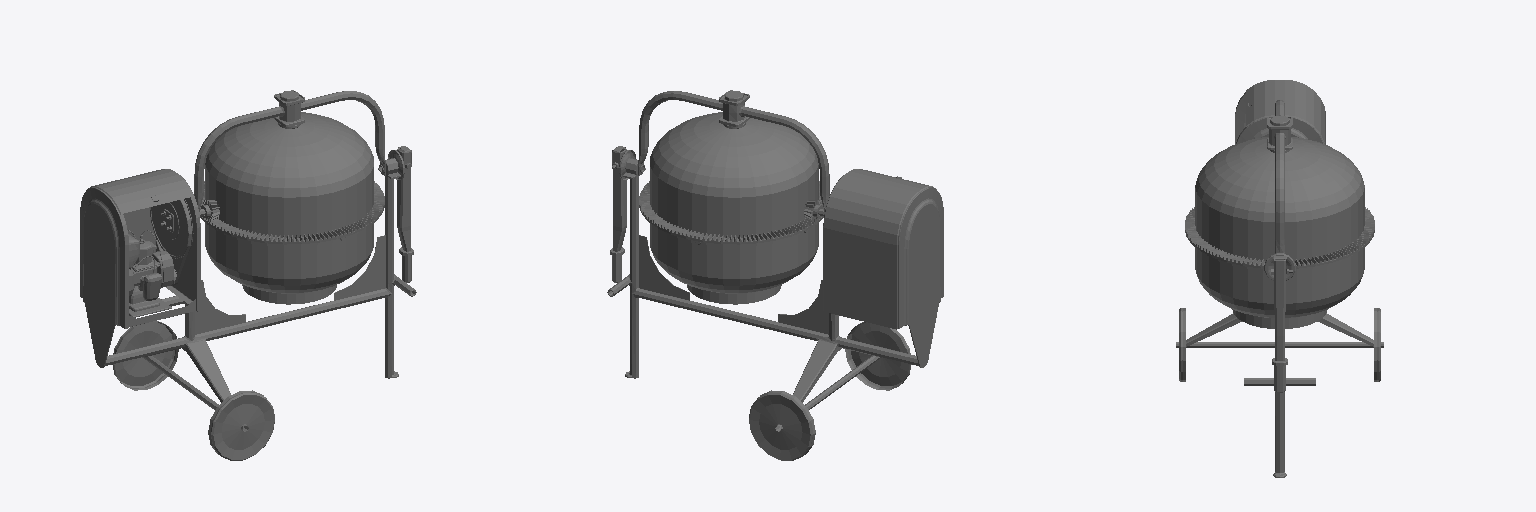
Rendered from mixer.obj.
3 views of the same model, side by side, from view 1: azimuth 30°, elevation 25°; view 2: azimuth 150°, elevation 25°; view 3: azimuth 270°, elevation 25° (orthographic).
Parts seen in each view (by area): view 1: low low, low; view 2: low low; view 3: low low.
Part boxes in pixels (left/top/right/bottom): low low: left=80, top=90, right=416, bottom=460; low: left=128, top=199, right=193, bottom=317; low low: left=607, top=90, right=943, bottom=460; low low: left=1176, top=80, right=1383, bottom=477.
Size of the model in its own units: 145 by 136 by 83.6.